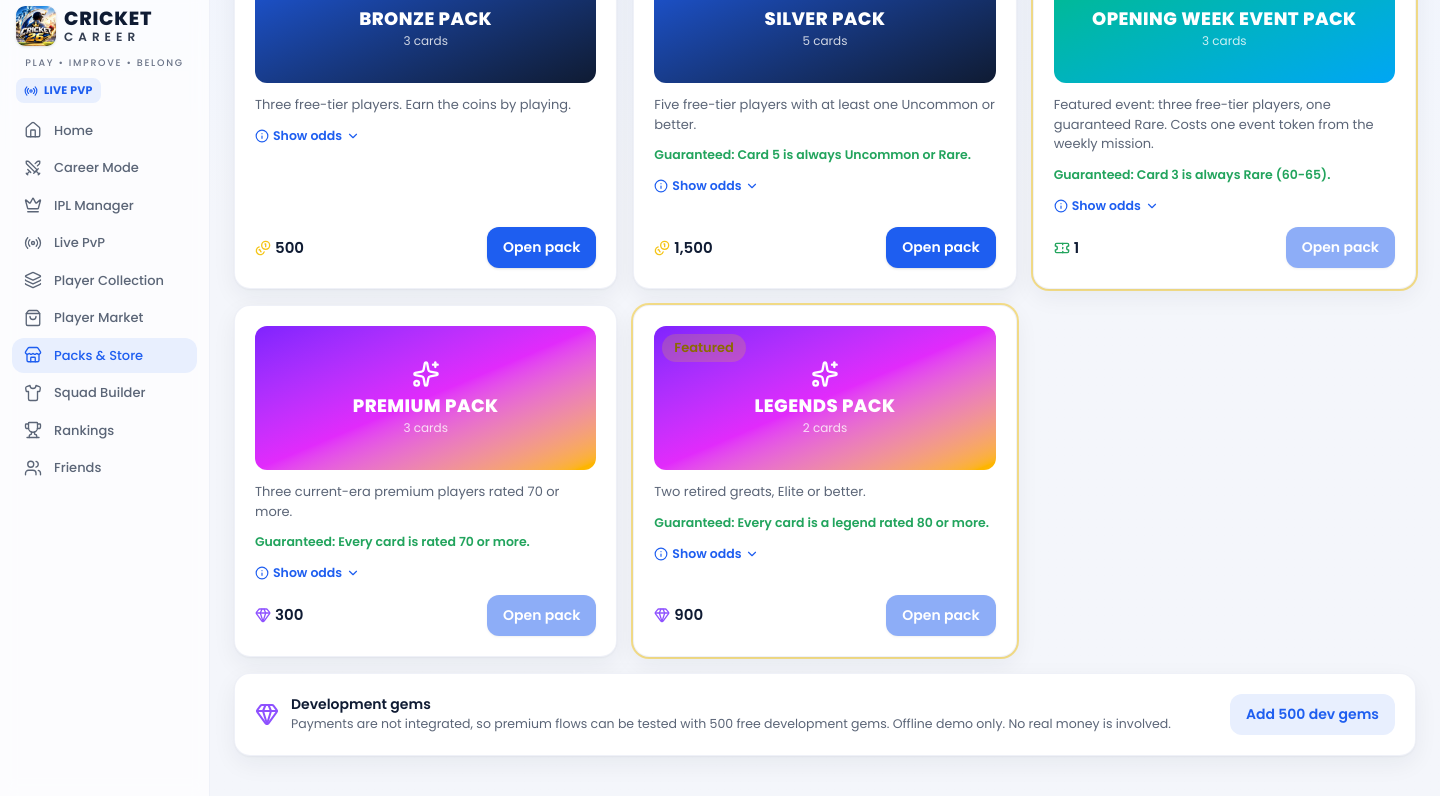
Test: Live PvP screens › the store discloses the odds before a purchase
(page scrolled)
Click the button "Show odds" below "Premium Pack".
click(308, 573)  # box top-left (255, 564), bottom-right (360, 583)
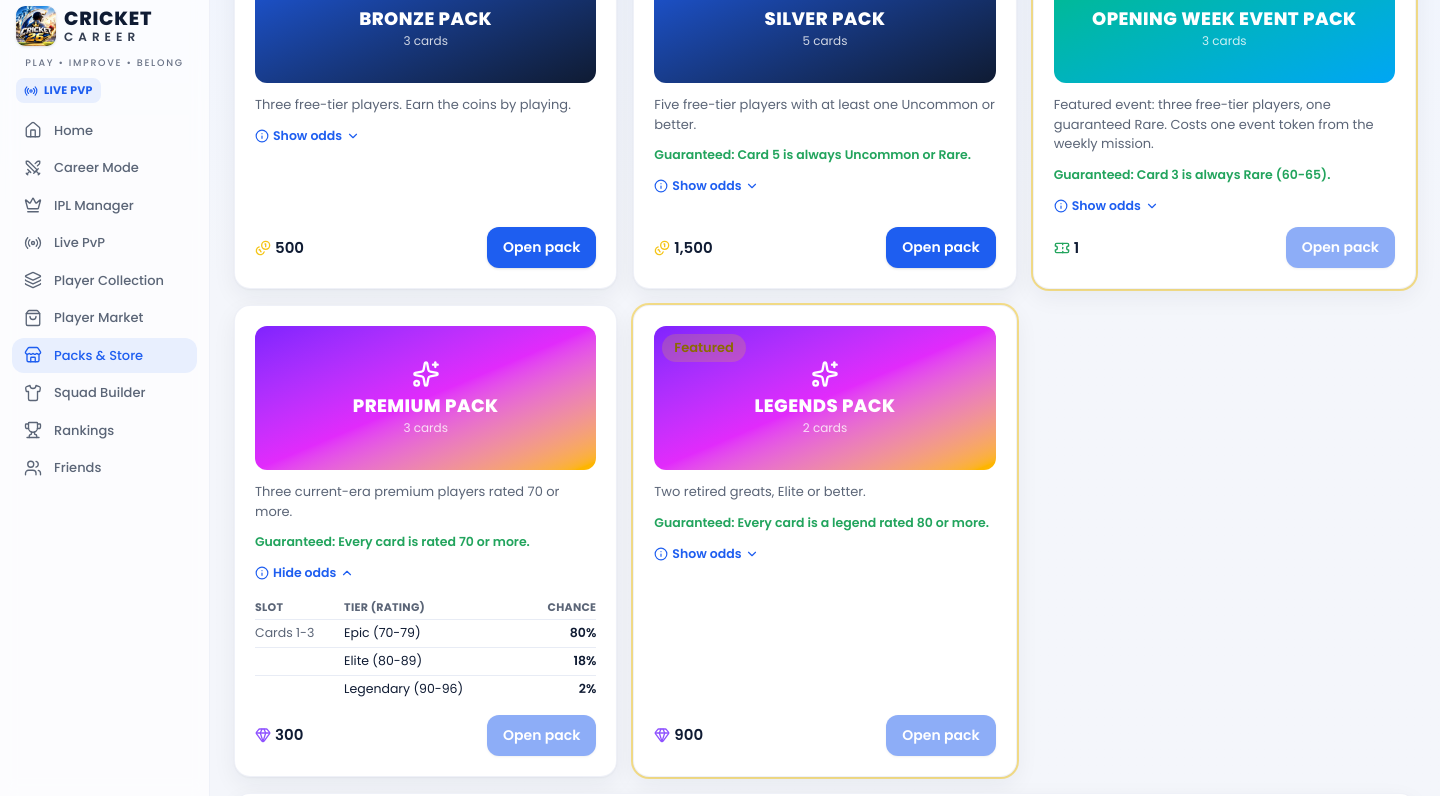
Now the text "80%" is shown, box top-left (523, 620), bottom-right (596, 648)
Now the text "2%" is shown, box top-left (523, 675), bottom-right (596, 703)
